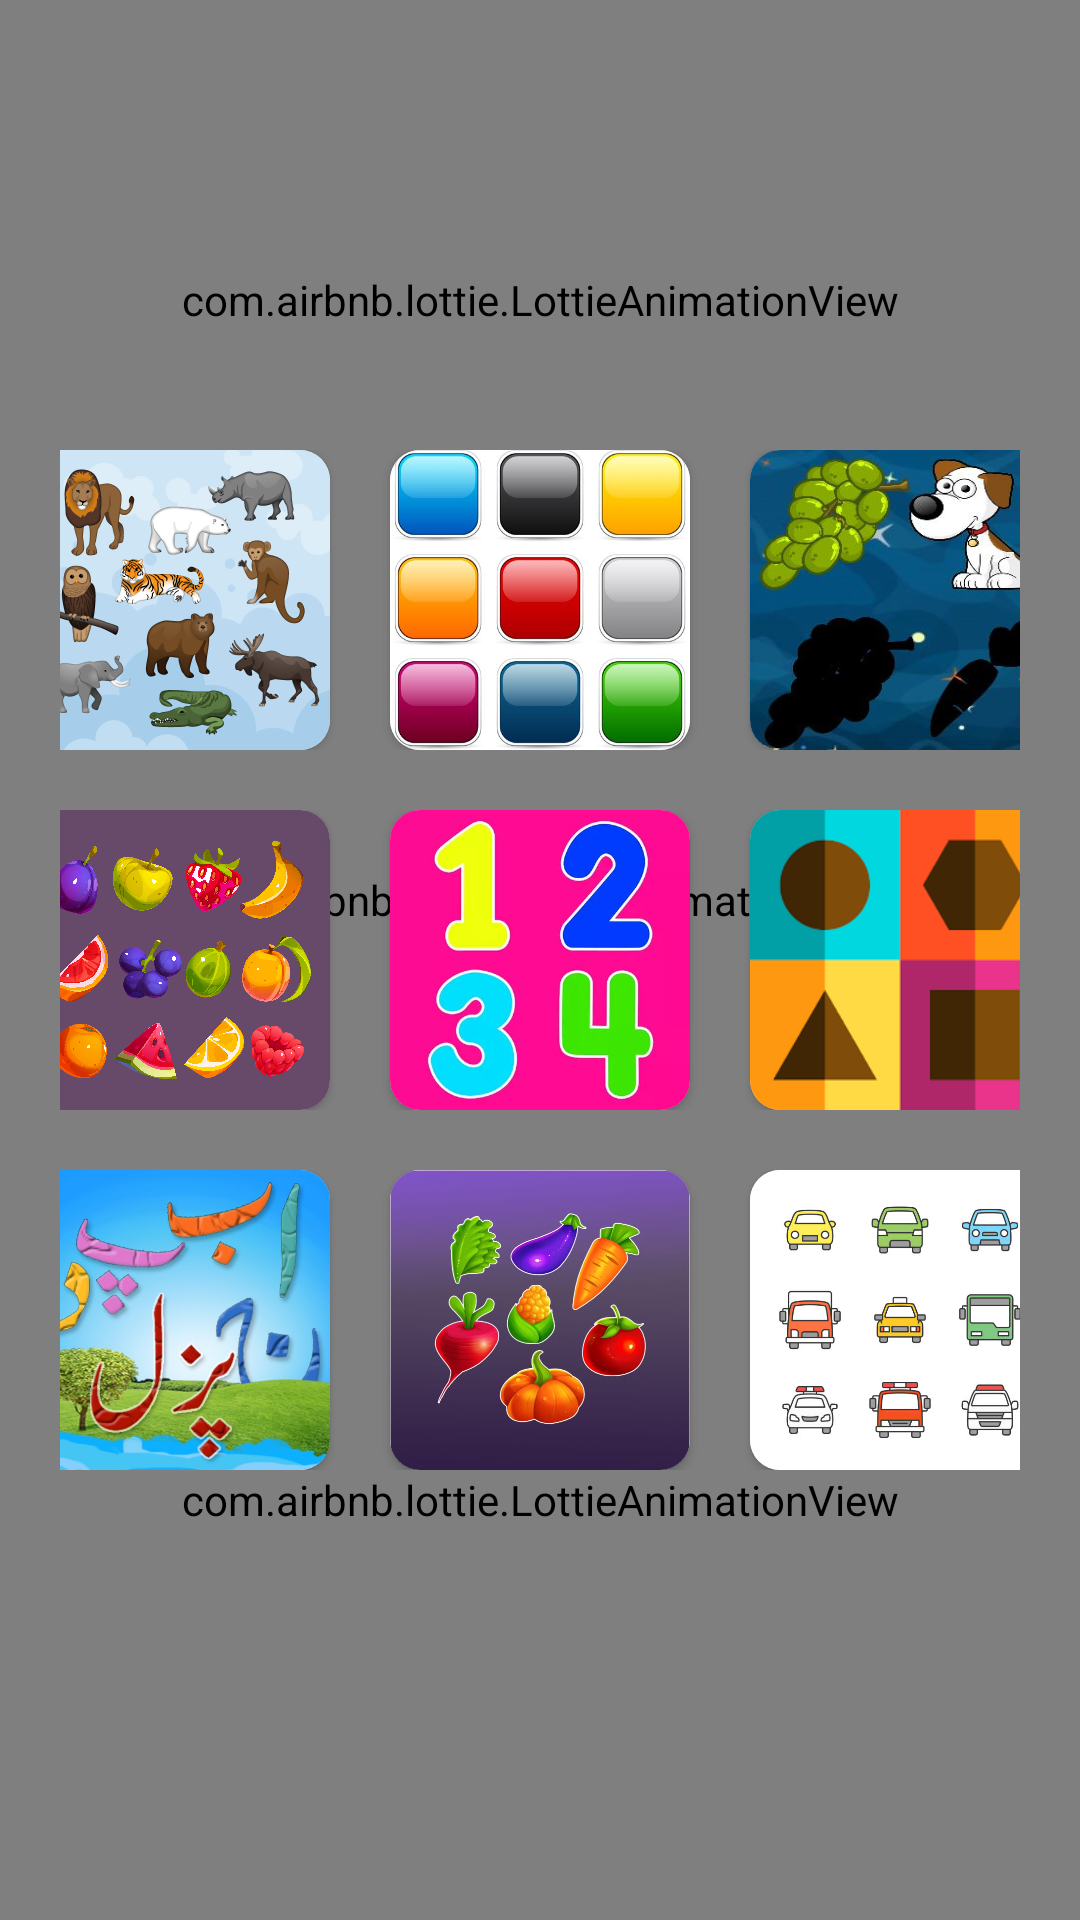

Screen size 1080*1920. Icon name, then its center in pixels as (x=x, y=y):
animalscene: (x=195, y=600)
colorscene: (x=540, y=600)
dragscene: (x=885, y=600)
fruitscene: (x=195, y=960)
numberscene: (x=540, y=960)
shapescene: (x=885, y=960)
urduscene: (x=195, y=1320)
vegitablescene: (x=540, y=1320)
vehiclescene: (x=885, y=1320)
